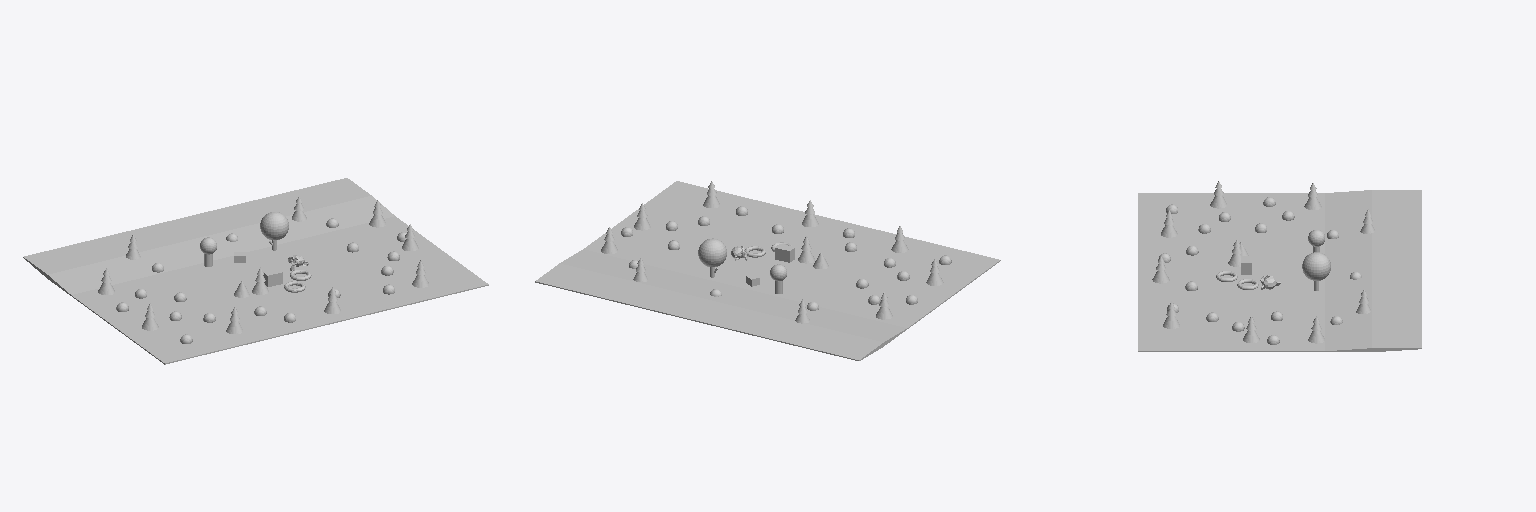
3 views of the same model, side by side, from view 1: azimuth 30°, elevation 25°; view 2: azimuth 150°, elevation 25°; view 3: azimuth 270°, elevation 25° (orthographic).
Parts seen in each view (by area): view 1: Cube.002_Cube, Sphere.002; view 2: Cube.002_Cube, Sphere.002; view 3: Cube.002_Cube, Sphere.002.
Boxes of the visible parts, box(x1,y1,x2,y2) form: Cube.002_Cube: box(23, 178, 488, 364); Sphere.002: box(260, 212, 288, 240); Cube.002_Cube: box(535, 181, 1000, 360); Sphere.002: box(698, 238, 726, 266); Cube.002_Cube: box(1138, 190, 1421, 351); Sphere.002: box(1302, 252, 1330, 280).
Size of the model in its own units: 43.13 by 5.24 by 32.65.